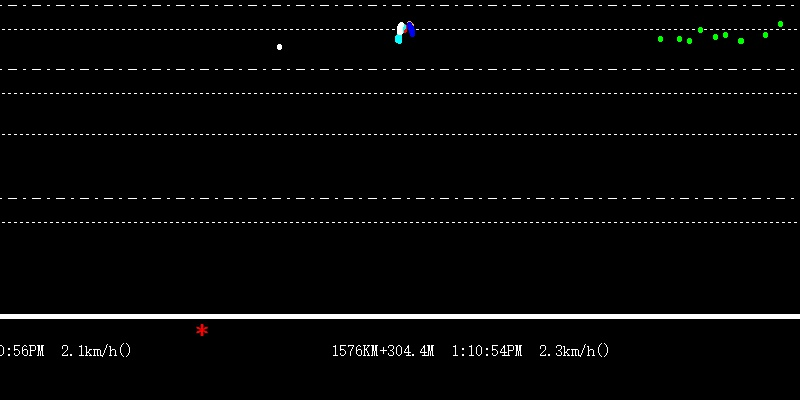face_2: (394, 18, 415, 46)
star: (192, 322, 209, 338)
